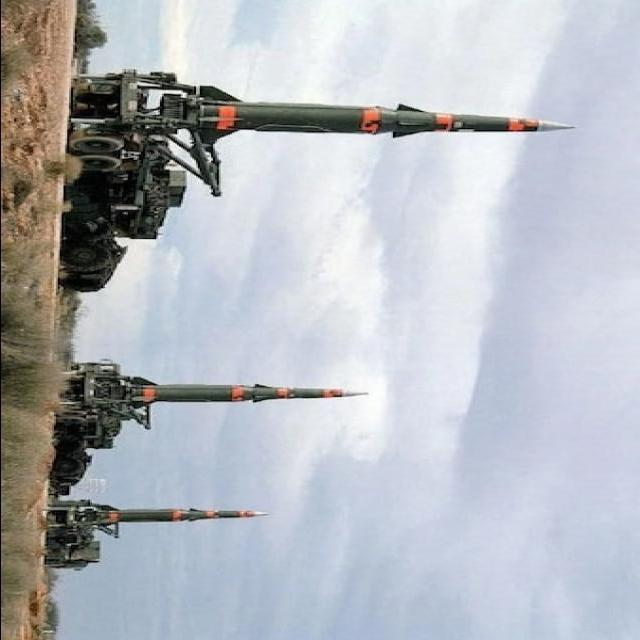missile: (190, 80, 576, 160), (126, 372, 366, 417), (94, 494, 267, 537)
